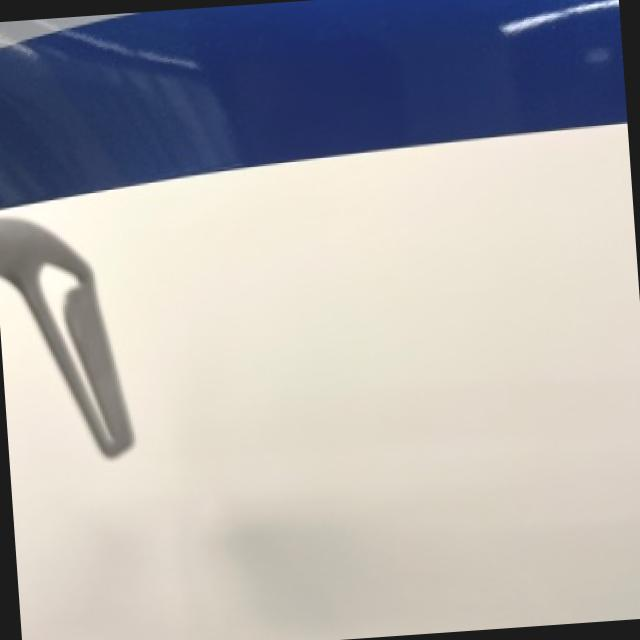healthy: (0, 0, 640, 640), (0, 219, 136, 454)
